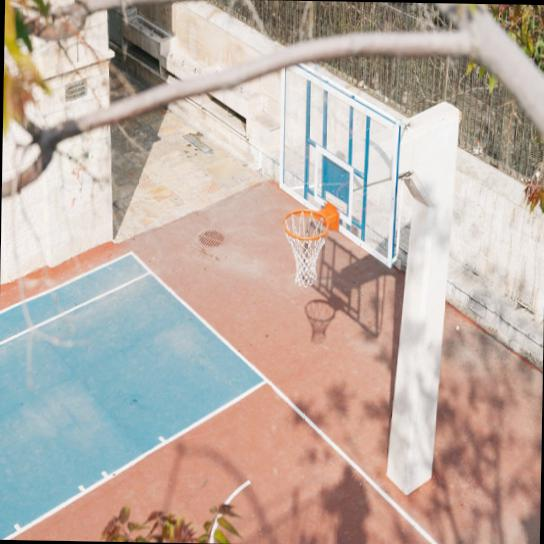basketball-hoop: (276, 202, 330, 288)
